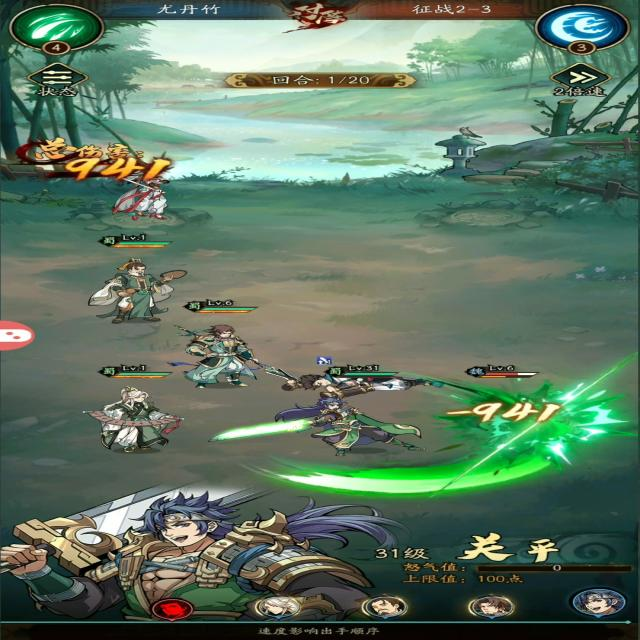hint-guide: (243, 624, 393, 637)
operation-fightspeed: (542, 58, 616, 103)
operation-status: (18, 58, 97, 101)
